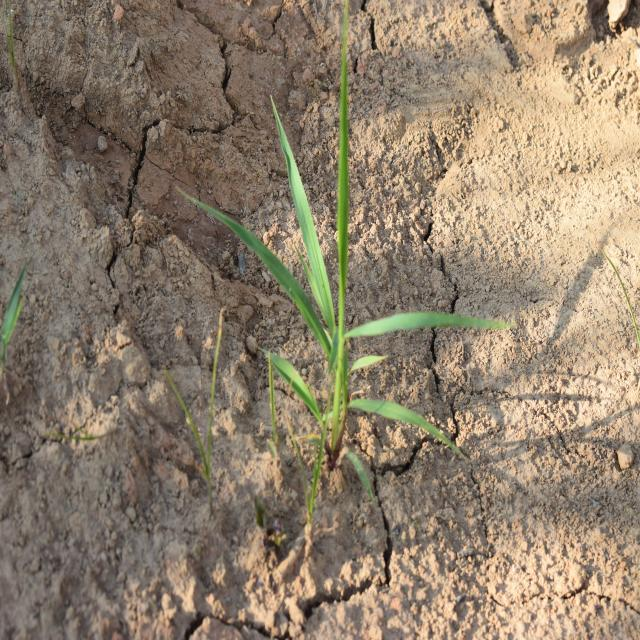green_foxtail: (228, 97, 458, 465)
